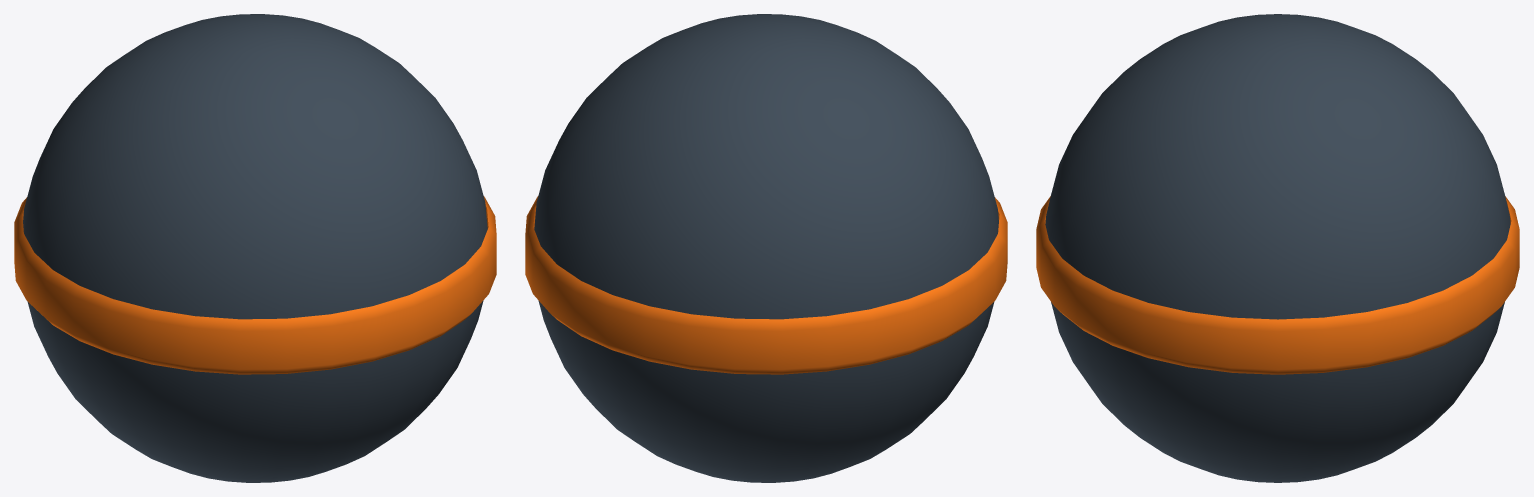
The model's file is volcanic_shell.obj.
3 renders of one model, left to right at view 1: azimuth 30°, elevation 25°; view 2: azimuth 150°, elevation 25°; view 3: azimuth 270°, elevation 25°, orthographic.
Visible parts, largest first — view 1: volcanic_shell; view 2: volcanic_shell; view 3: volcanic_shell.
Part boxes in pixels (x1,y1,x2,y2): volcanic_shell: (14,14,496,482); volcanic_shell: (525,14,1007,482); volcanic_shell: (1036,14,1519,482).
Bounding box in the file's own units: 2.06 × 2 × 2.06.
